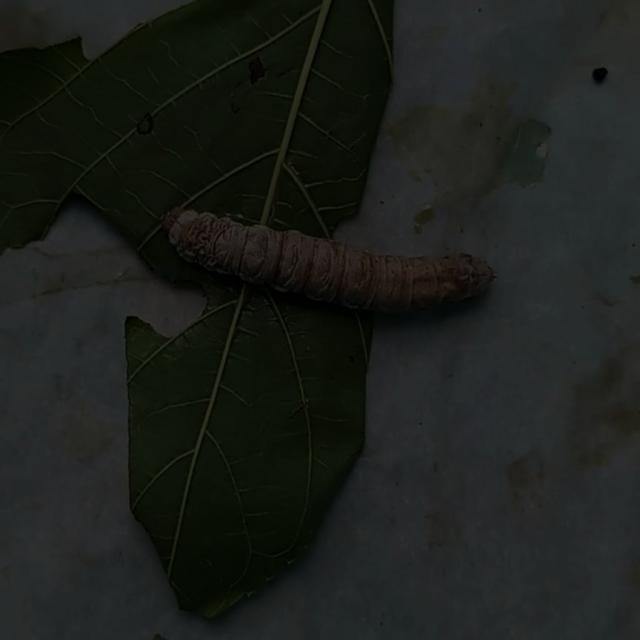Grasserie: (157, 193, 502, 348)
